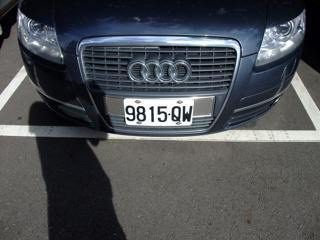plate: (122, 96, 194, 129)
